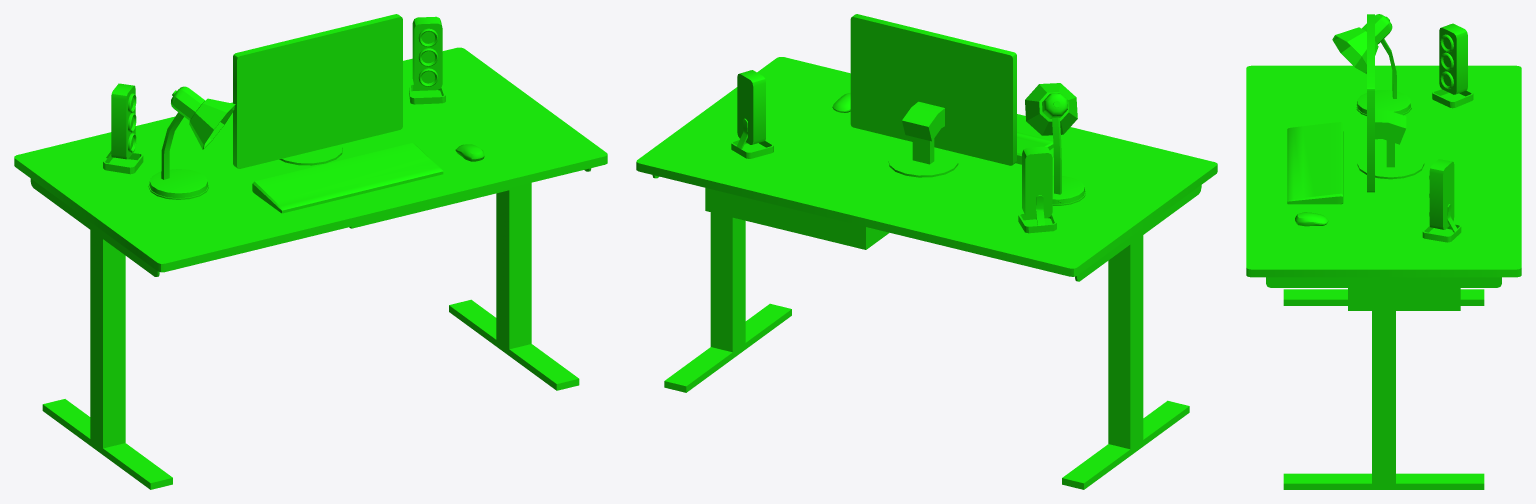
File: Computer Table.fbx
The picture shows the model from 3 angles, left to right: view 1: azimuth 30°, elevation 25°; view 2: azimuth 150°, elevation 25°; view 3: azimuth 270°, elevation 25°; orthographic projection. The views are drawn at different scales.
Visible parts, largest first — view 1: Computer Table; view 2: Computer Table; view 3: Computer Table.
Part boxes in pixels (x1,y1,x2,y2): Computer Table: (14,14,607,489); Computer Table: (636,14,1217,489); Computer Table: (1246,14,1521,489).
Size of the model in its own units: 1.76 by 1.38 by 1.
